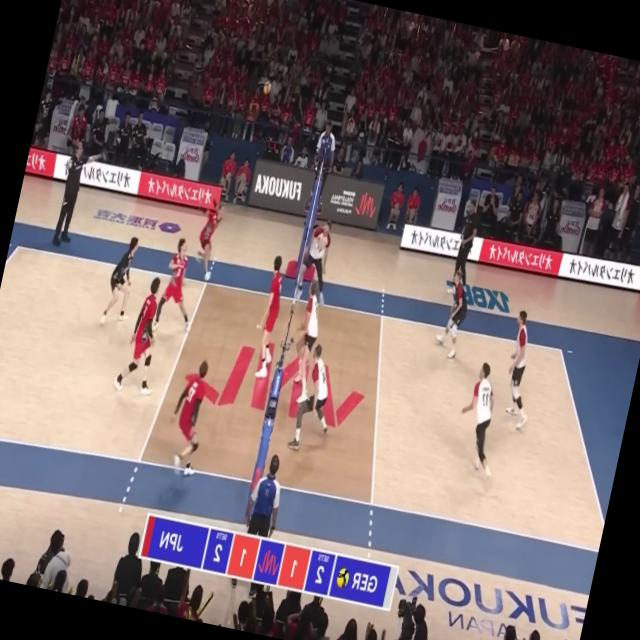referee: (228, 451, 290, 593)
team_one: (449, 357, 513, 473), (494, 308, 548, 431), (289, 343, 344, 453), (284, 284, 327, 399), (294, 219, 336, 317), (432, 268, 472, 361)
team_two: (160, 354, 224, 481), (112, 271, 174, 399), (244, 249, 293, 380), (150, 235, 206, 342), (100, 233, 144, 324), (190, 198, 228, 280)
